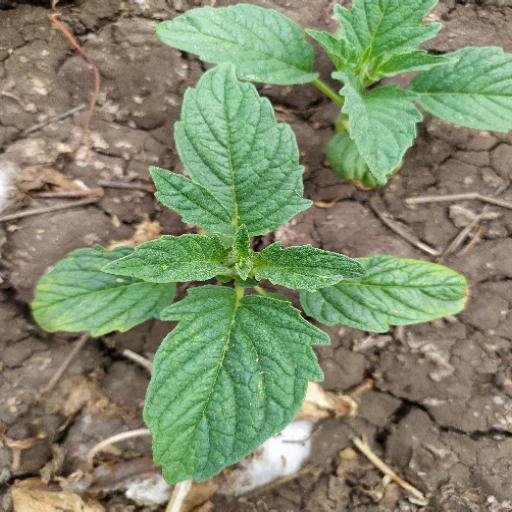crop: (29, 64, 462, 480), (148, 1, 512, 176)
